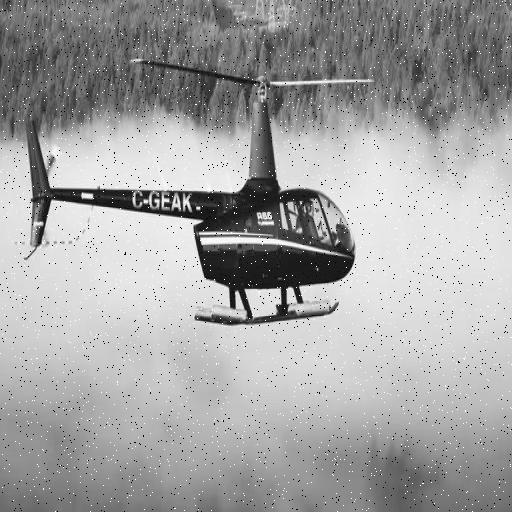helicopter: (26, 57, 377, 327)
